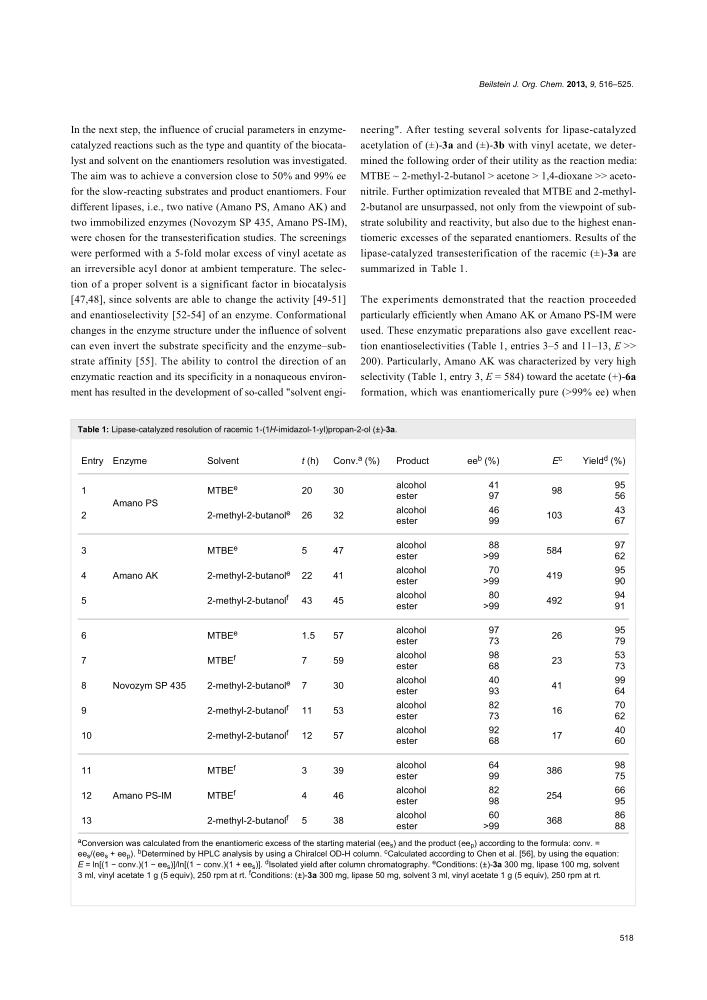table: (81, 453, 624, 831)
